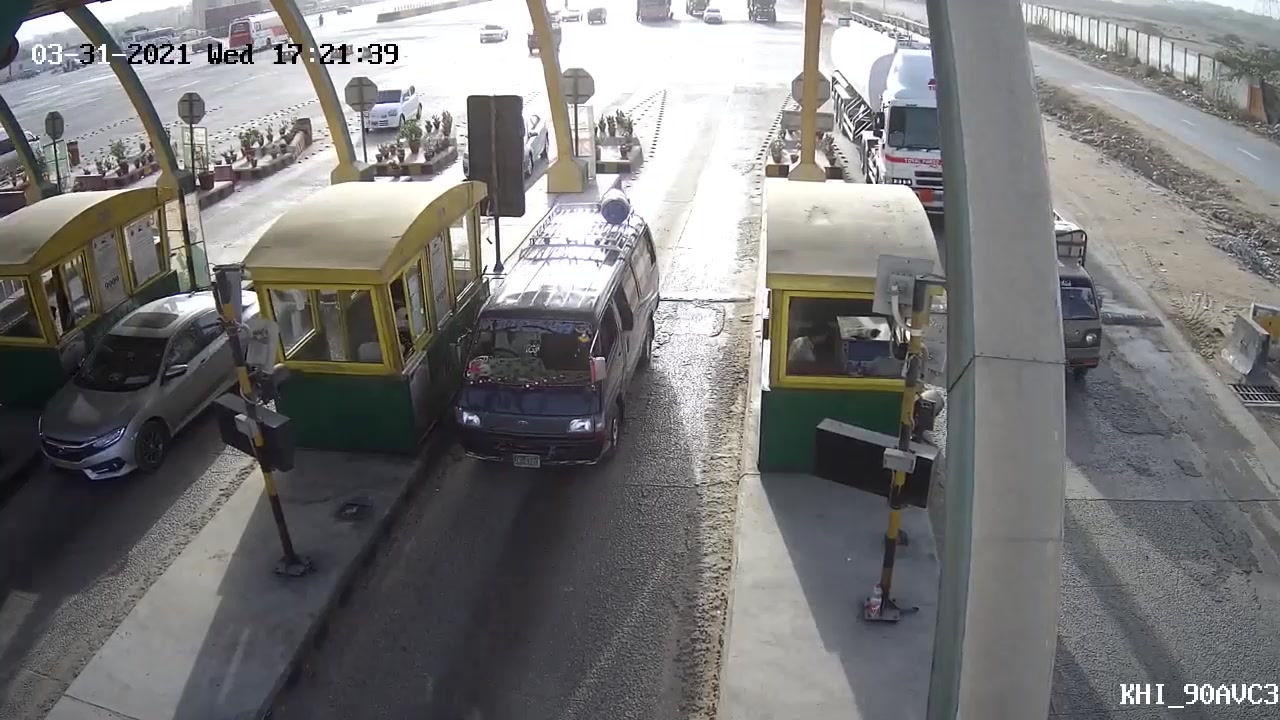F2: (444, 191, 672, 495)
